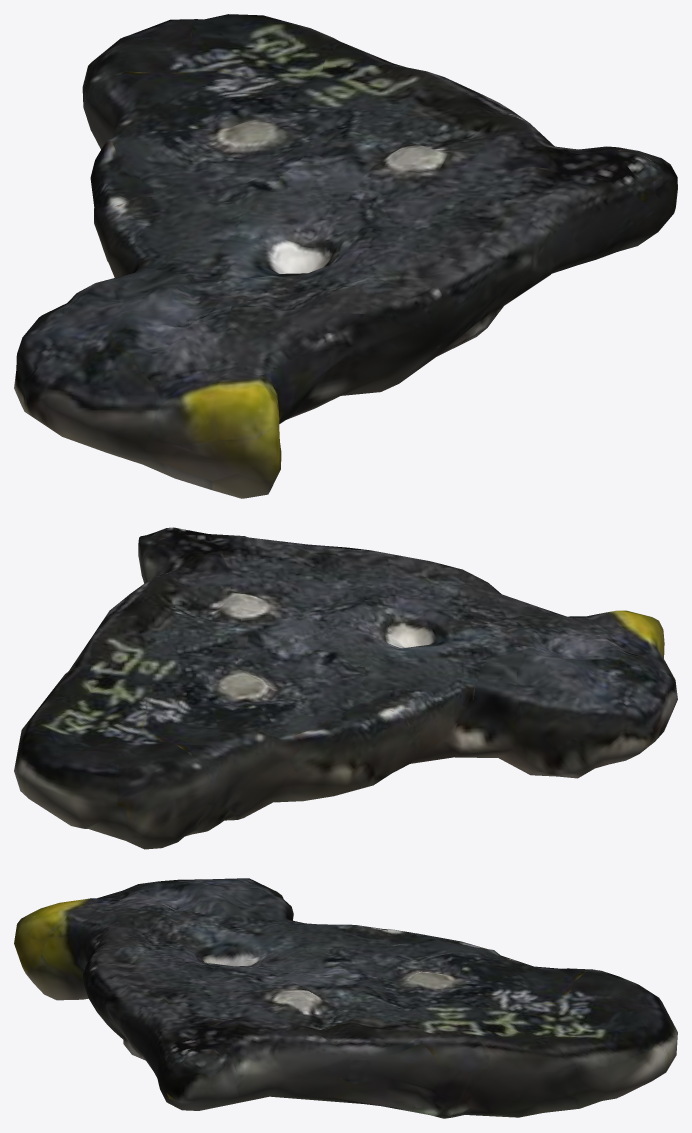
File: hall.glb
The picture shows the model from 3 angles, top to bottom: view 1: azimuth 30°, elevation 25°; view 2: azimuth 150°, elevation 25°; view 3: azimuth 270°, elevation 25°; orthographic projection. The views are drawn at different scales.
Size of the model in its own units: 0.6038 by 0.1497 by 0.6832.
1 material, 1 textured.
